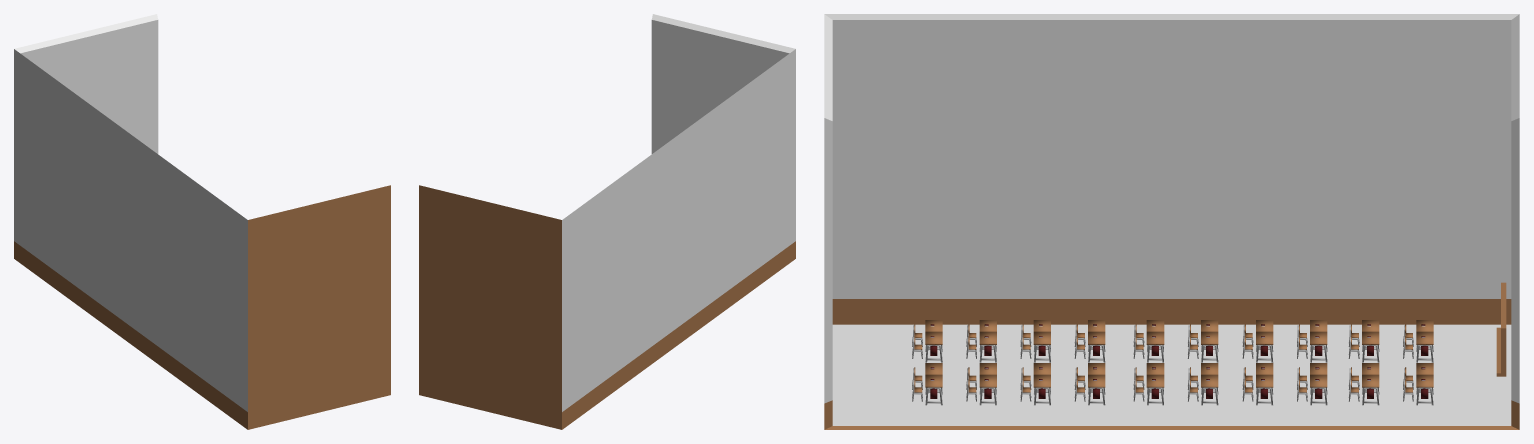
Rendered from all.fbx.
3 views of the same model, side by side, from view 1: azimuth 30°, elevation 25°; view 2: azimuth 150°, elevation 25°; view 3: azimuth 270°, elevation 25° (orthographic). The views are drawn at different scales.
Visible parts, largest first — view 1: 평면; view 2: 평면; view 3: 평면.
Part boxes in pixels (bbox=[...]): 평면: bbox=[14, 14, 390, 429]; 평면: bbox=[419, 14, 795, 429]; 평면: bbox=[824, 14, 1519, 429].
Bounding box in the file's own units: 1036 × 1453 × 2933.
